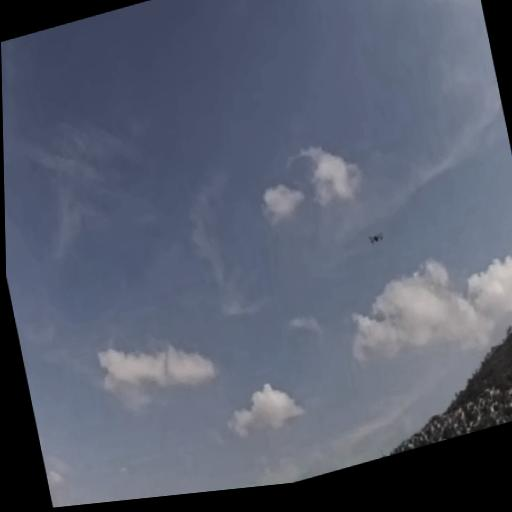drones: (363, 228, 392, 255)
